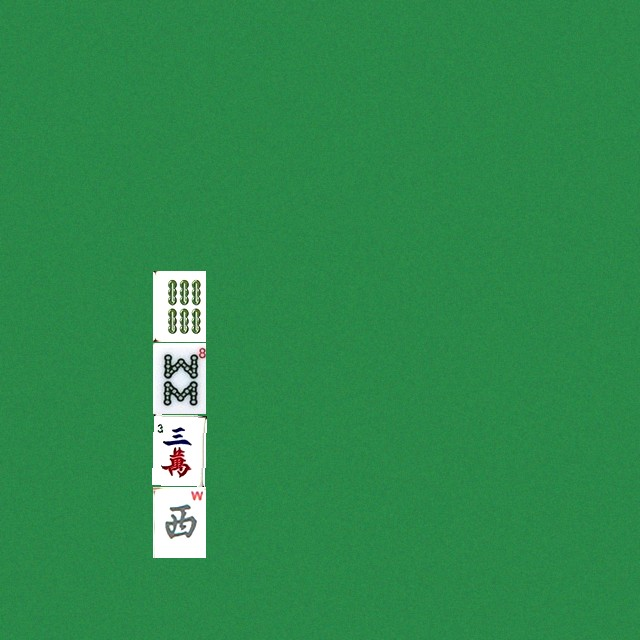tile: (152, 270, 205, 341), (152, 342, 205, 413), (152, 414, 205, 485), (152, 486, 205, 557)
